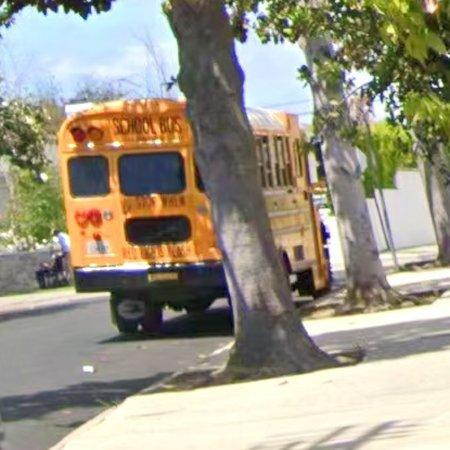buses: (248, 109, 330, 295)
